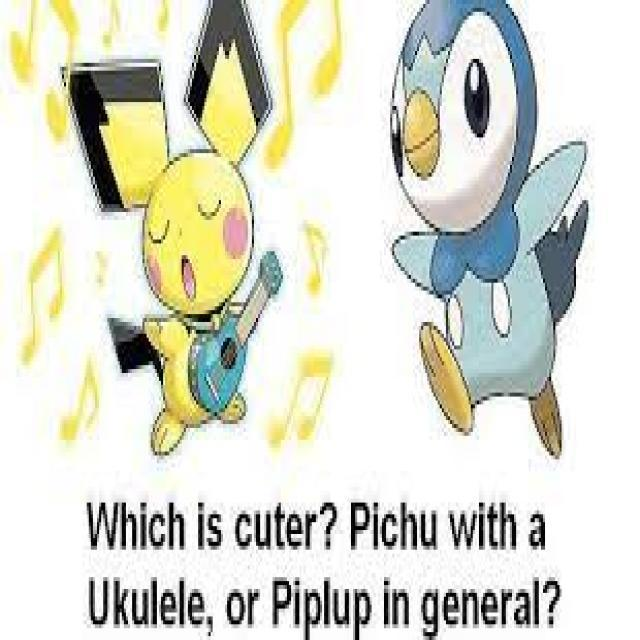pichu: (67, 0, 328, 464)
